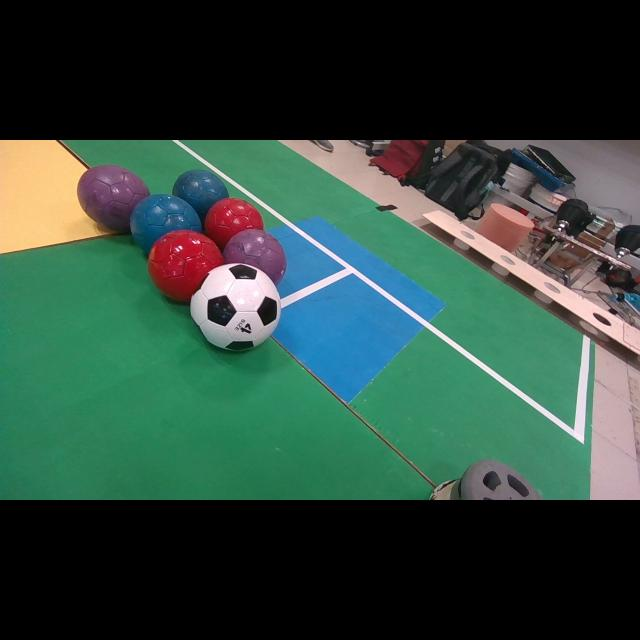B: (130, 194, 201, 254), (172, 170, 229, 223)
P: (78, 164, 150, 234), (222, 229, 286, 285)
R: (148, 230, 224, 301), (205, 199, 264, 251)
